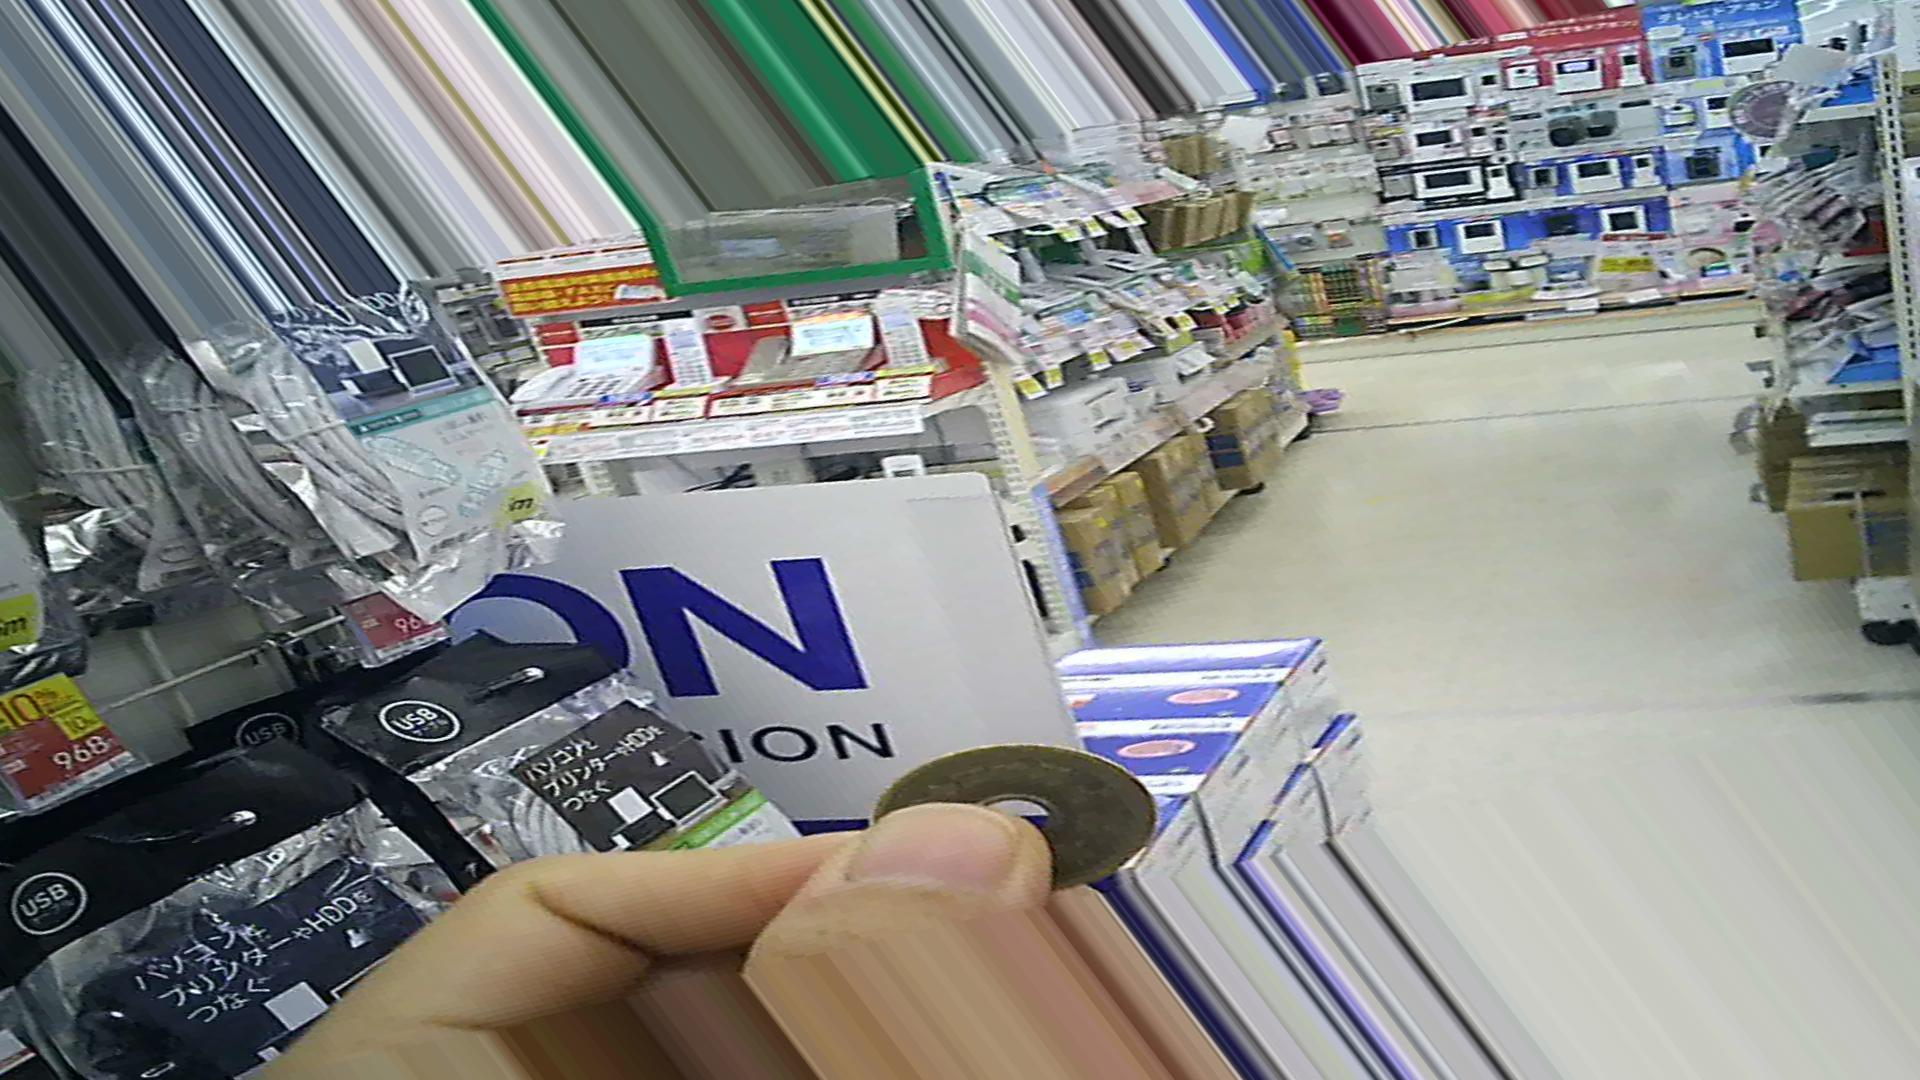5 Yen: (852, 744, 1172, 895)
